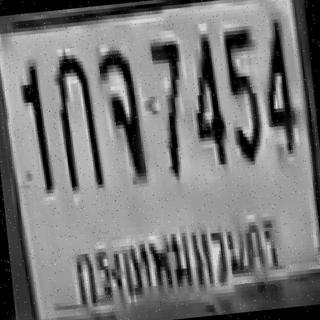A01: (51, 50, 103, 192)
A08: (94, 45, 148, 183)
N01: (18, 58, 52, 192)
N04: (184, 31, 227, 165), (256, 15, 296, 152)
N05: (220, 24, 263, 161)
N07: (146, 37, 189, 174)
P04: (64, 206, 289, 313)
